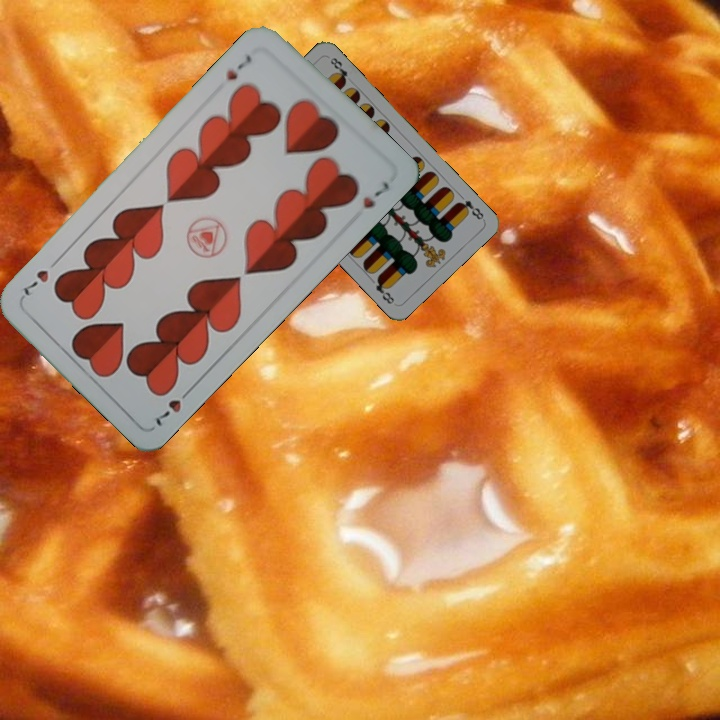E8: (453, 196, 486, 222)
H7: (151, 383, 196, 429), (221, 50, 255, 84)
